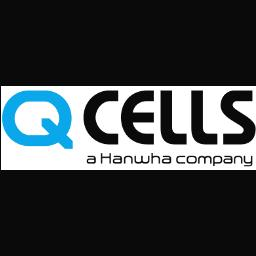q: (0, 86, 80, 154)
